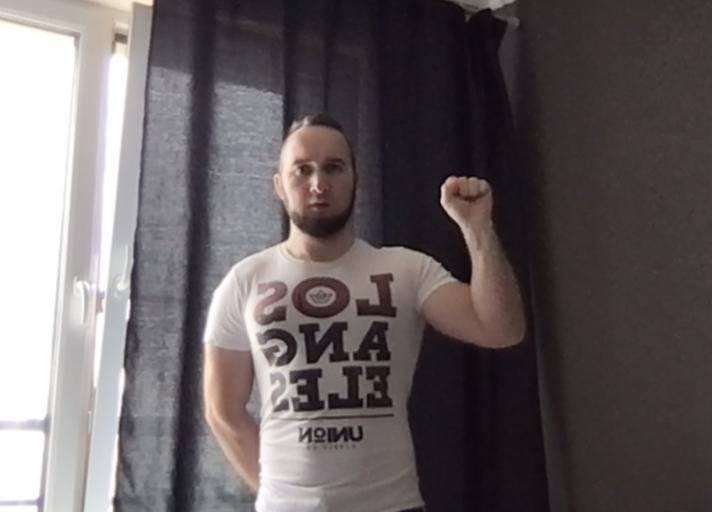fist: (438, 171, 496, 228)
